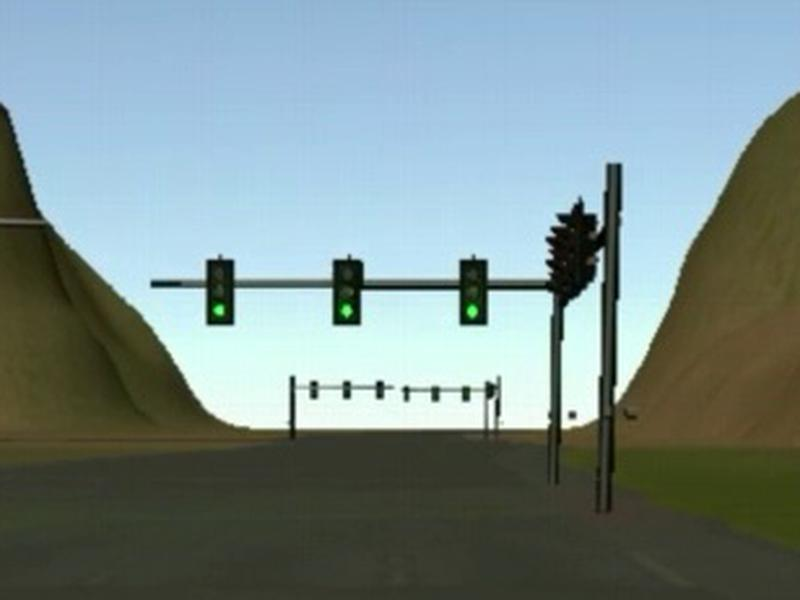Green: (206, 259, 234, 325), (460, 258, 488, 324), (334, 258, 361, 325)
